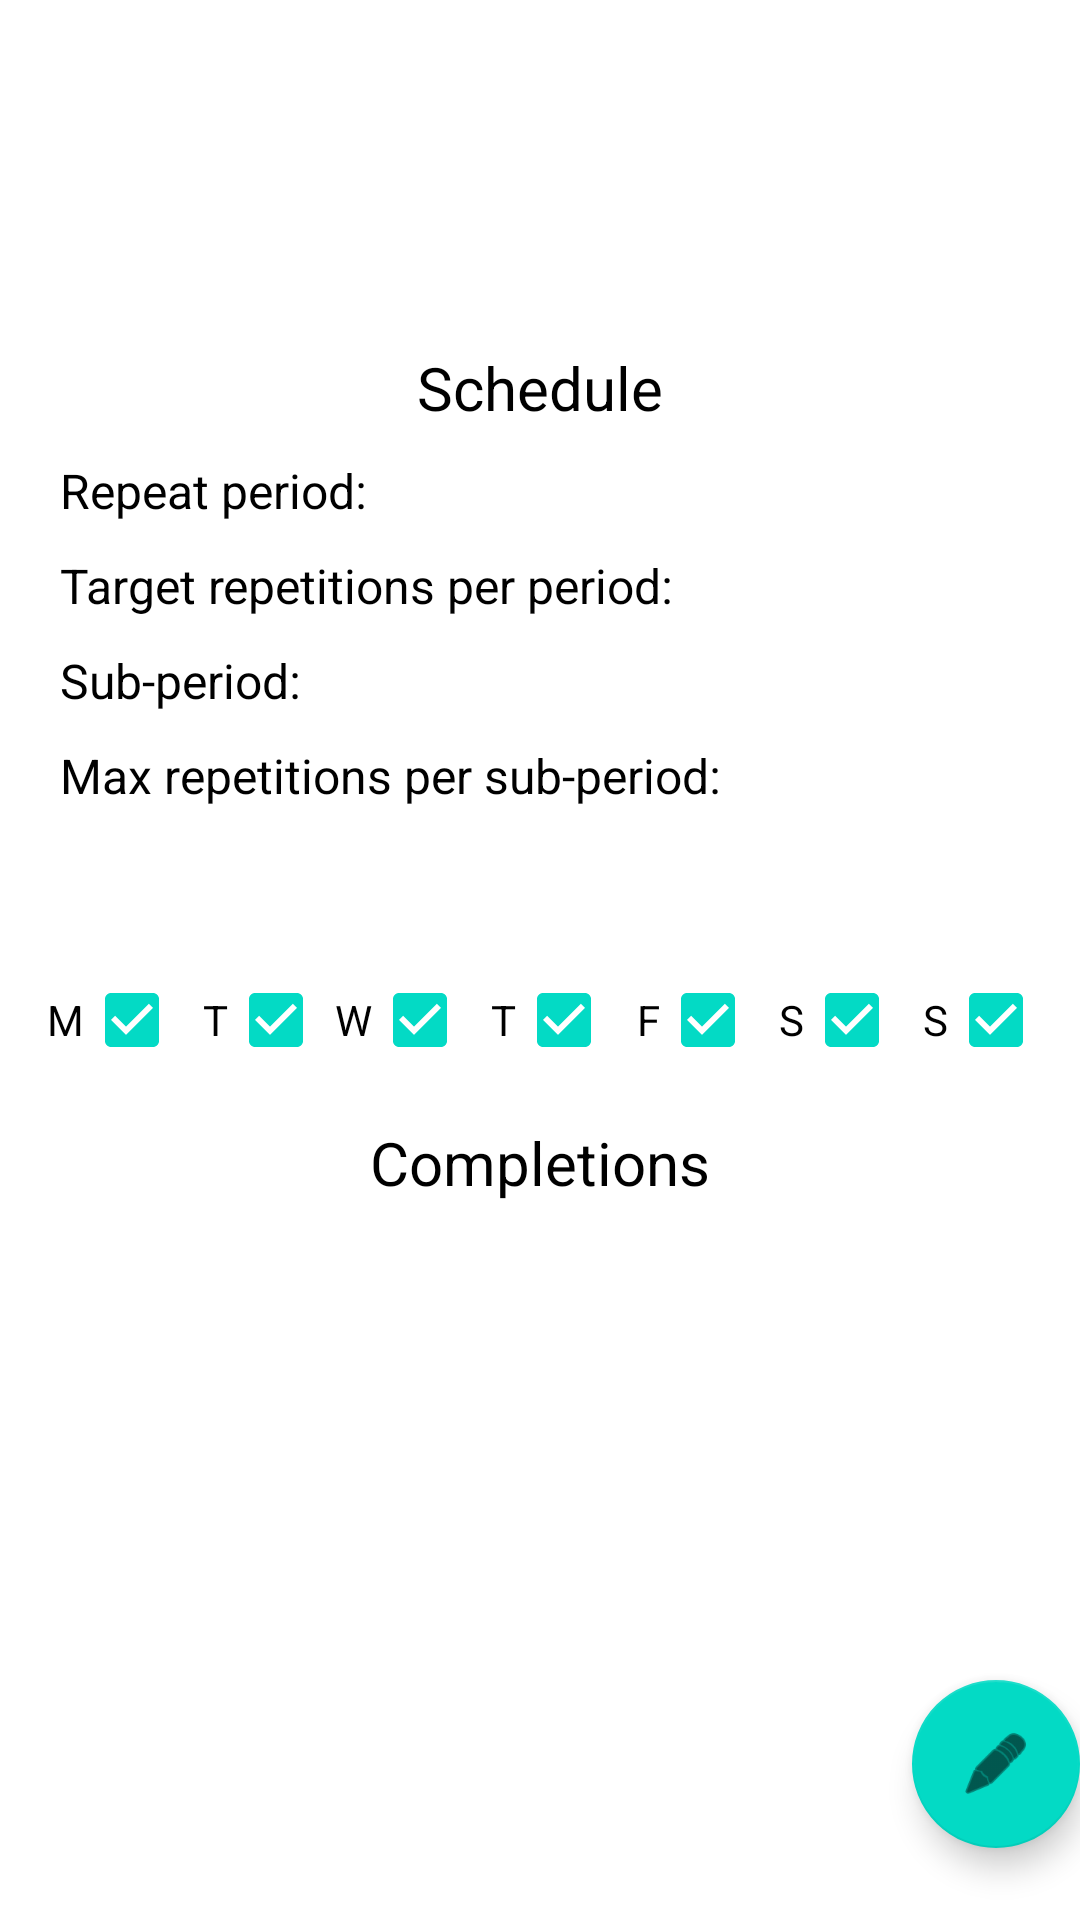

Named icons in this screenshot (1080 × 1920) and their bounding boxes, [left=x1, top=y1, right=x2, bottom=y2]:
edit: [left=912, top=1680, right=1080, bottom=1848]
